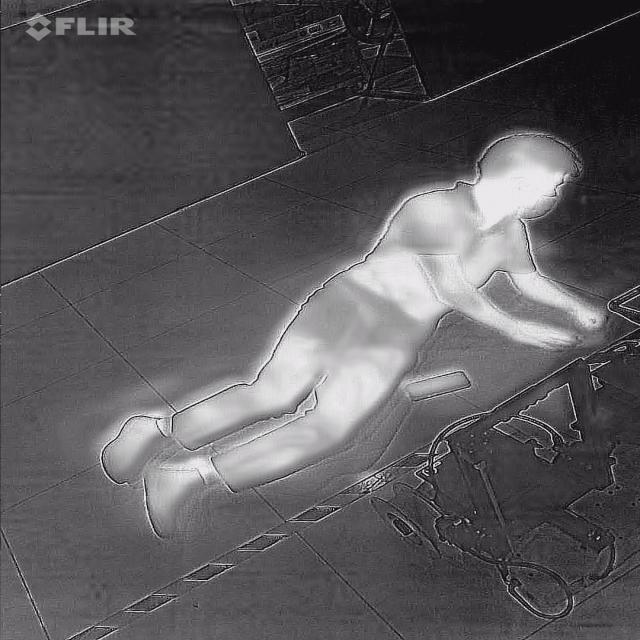Victim: (86, 128, 609, 546)
